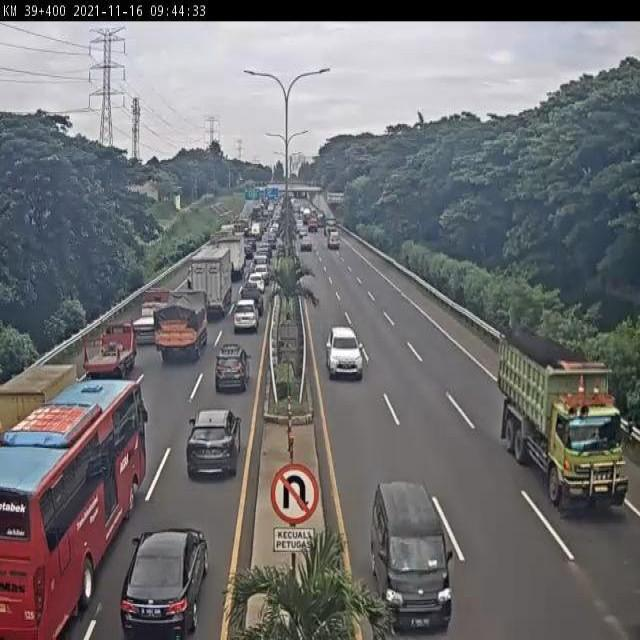big bus: (0, 374, 170, 638)
car: (366, 482, 458, 630), (121, 522, 206, 630), (183, 405, 246, 484), (325, 321, 367, 384), (211, 336, 253, 399), (231, 294, 262, 338)
small truck: (0, 356, 80, 425), (82, 325, 140, 372), (133, 290, 165, 338)
truck-l-: (485, 320, 640, 513), (191, 245, 235, 318)
truck-m-: (150, 299, 212, 361)
